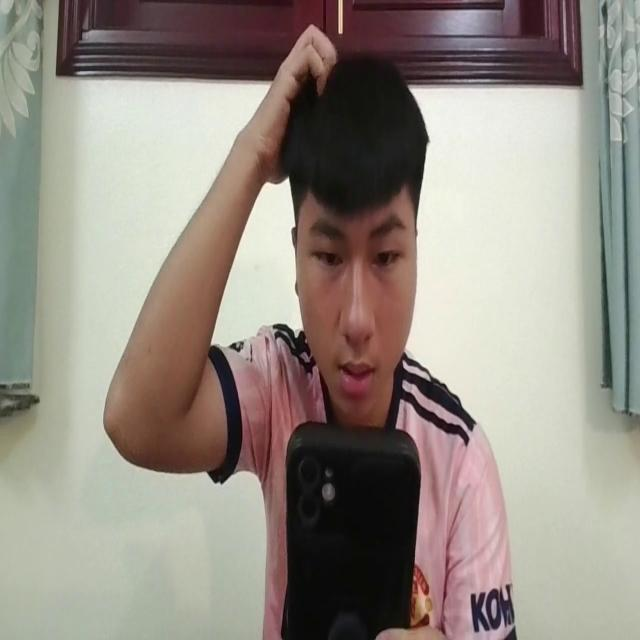phone: (286, 419, 422, 640)
student: (98, 32, 517, 640)
